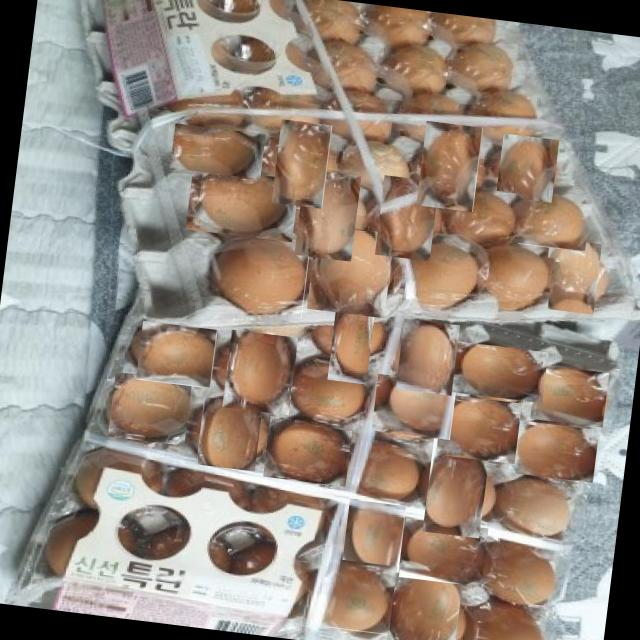eggs: (201, 223, 311, 319), (184, 166, 300, 243), (304, 226, 395, 316), (414, 446, 499, 530), (399, 242, 492, 318), (262, 415, 353, 487), (219, 332, 300, 412), (288, 175, 368, 255), (409, 126, 489, 206), (290, 354, 372, 432), (449, 340, 549, 403), (107, 372, 192, 446), (398, 518, 488, 587), (470, 541, 560, 609), (436, 394, 522, 464), (489, 473, 576, 542), (507, 419, 599, 484), (439, 184, 524, 253), (368, 180, 444, 256), (322, 558, 396, 635), (371, 374, 456, 441), (136, 320, 218, 388), (264, 126, 339, 200), (472, 248, 553, 316), (170, 124, 266, 180), (383, 574, 464, 640), (337, 502, 409, 574), (529, 364, 609, 428), (491, 136, 562, 207), (193, 398, 264, 469), (392, 322, 462, 393), (536, 242, 606, 311), (505, 198, 590, 252), (318, 308, 385, 375), (355, 437, 422, 502), (456, 593, 547, 640)
